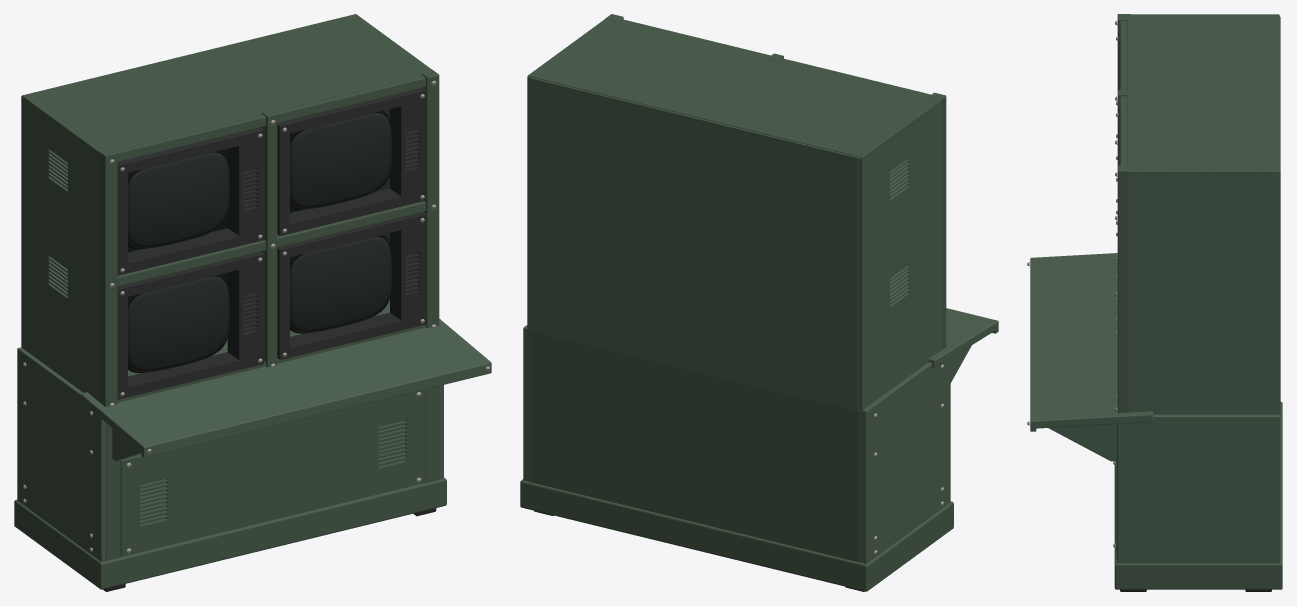
File: guard_monitor_console.glb
3 views of the same model, side by side, from view 1: azimuth 30°, elevation 25°; view 2: azimuth 150°, elevation 25°; view 3: azimuth 270°, elevation 25° (orthographic). The views are drawn at different scales.
Parts seen in each view (by area): view 1: LowerServicePanel, UpperHousingTop, UpperHousingSide_L, ConsoleWorkShelf, LowerCabinetSide_L, BasePlinth, MonitorFaceplate_Upper_R, MonitorFaceplate_Lower_R, MonitorFaceplate_Upper_L, MonitorFaceplate_Lower_L, CrtScreen_Upper_R, CrtScreen_Lower_R (+11 smaller); view 2: UpperHousingBack, LowerCabinetRear, UpperHousingTop, UpperHousingSide_L, LowerCabinetSide_L, BasePlinth, ConsoleWorkShelf, VerticalRackPost_L, LowerCabinetSide_R, UpperHousingSide_R, HorizontalRackRail_Top; view 3: UpperHousingSide_R, UpperHousingTop, LowerCabinetSide_R, ConsoleWorkShelf, BasePlinth, VerticalRackPost_R, ShelfSupportBracket_R, HorizontalRackRail_Top, UpperHousingBack.
Boxes of the visible parts, x1,y1,x2,y2 form: LowerServicePanel: [120, 389, 424, 556]; UpperHousingTop: [21, 14, 431, 156]; UpperHousingSide_L: [21, 96, 99, 402]; ConsoleWorkShelf: [80, 319, 491, 453]; LowerCabinetSide_L: [17, 347, 106, 561]; BasePlinth: [14, 477, 446, 589]; MonitorFaceplate_Upper_R: [277, 87, 426, 235]; MonitorFaceplate_Lower_R: [277, 212, 426, 359]; MonitorFaceplate_Upper_L: [117, 127, 264, 275]; MonitorFaceplate_Lower_L: [117, 251, 264, 399]; CrtScreen_Upper_R: [290, 113, 391, 208]; CrtScreen_Lower_R: [290, 237, 391, 332]; UpperHousingBack: [530, 77, 858, 412]; LowerCabinetRear: [529, 330, 859, 562]; UpperHousingTop: [527, 19, 941, 159]; UpperHousingSide_L: [857, 101, 941, 410]; LowerCabinetSide_L: [859, 358, 950, 563]; BasePlinth: [520, 479, 953, 591]; ConsoleWorkShelf: [928, 308, 998, 368]; VerticalRackPost_L: [927, 92, 946, 349]; LowerCabinetSide_R: [523, 325, 529, 481]; UpperHousingSide_R: [527, 76, 530, 329]; HorizontalRackRail_Top: [620, 19, 930, 96]; UpperHousingSide_R: [1128, 171, 1279, 414]; UpperHousingTop: [1127, 14, 1279, 175]; LowerCabinetSide_R: [1117, 414, 1279, 563]; ConsoleWorkShelf: [1030, 253, 1153, 428]; BasePlinth: [1114, 402, 1282, 589]; VerticalRackPost_R: [1117, 165, 1131, 412]; ShelfSupportBracket_R: [1048, 424, 1116, 461]; HorizontalRackRail_Top: [1120, 21, 1127, 165]; UpperHousingBack: [1279, 17, 1280, 415].
Size of the model in its own units: 2.6 by 3.13 by 1.71.
27 materials, 19 textured.
